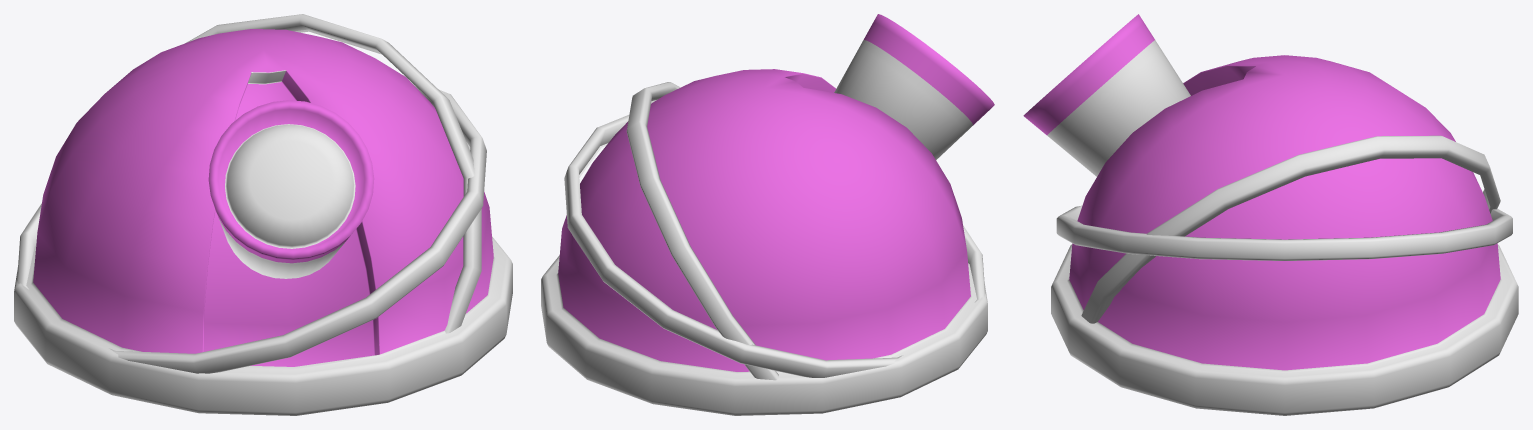
File: fbx_observatory_01.fbx
The picture shows the model from 3 angles, left to right: view 1: azimuth 30°, elevation 25°; view 2: azimuth 150°, elevation 25°; view 3: azimuth 270°, elevation 25°; orthographic projection. The views are drawn at different scales.
Parts seen in each view (by area): view 1: Cylinder; view 2: Cylinder; view 3: Cylinder.
Part boxes in pixels (x1,y1,x2,y2): Cylinder: (14, 14, 512, 415); Cylinder: (541, 14, 994, 415); Cylinder: (1023, 14, 1518, 415).
Bounding box in the file's own units: 2.16 × 1.37 × 2.29.
